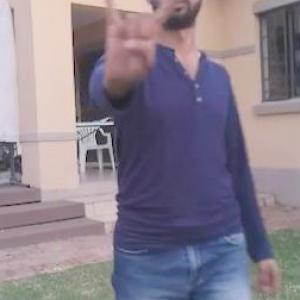takeoff-hand: (95, 0, 186, 95)
